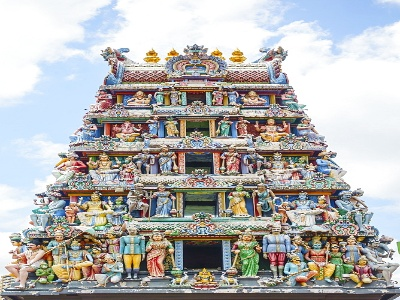gopura: (40, 53, 390, 280)
